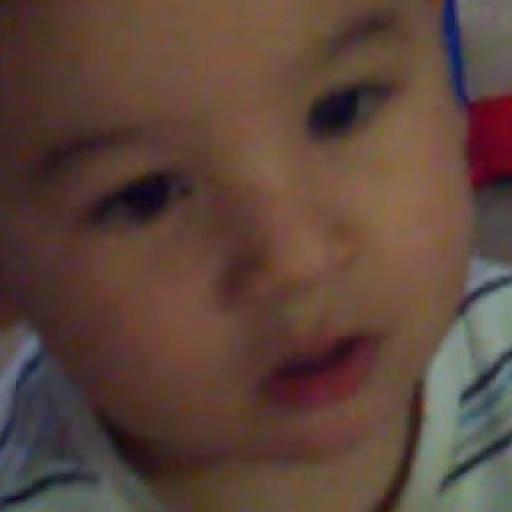Autism: (7, 8, 507, 455)
